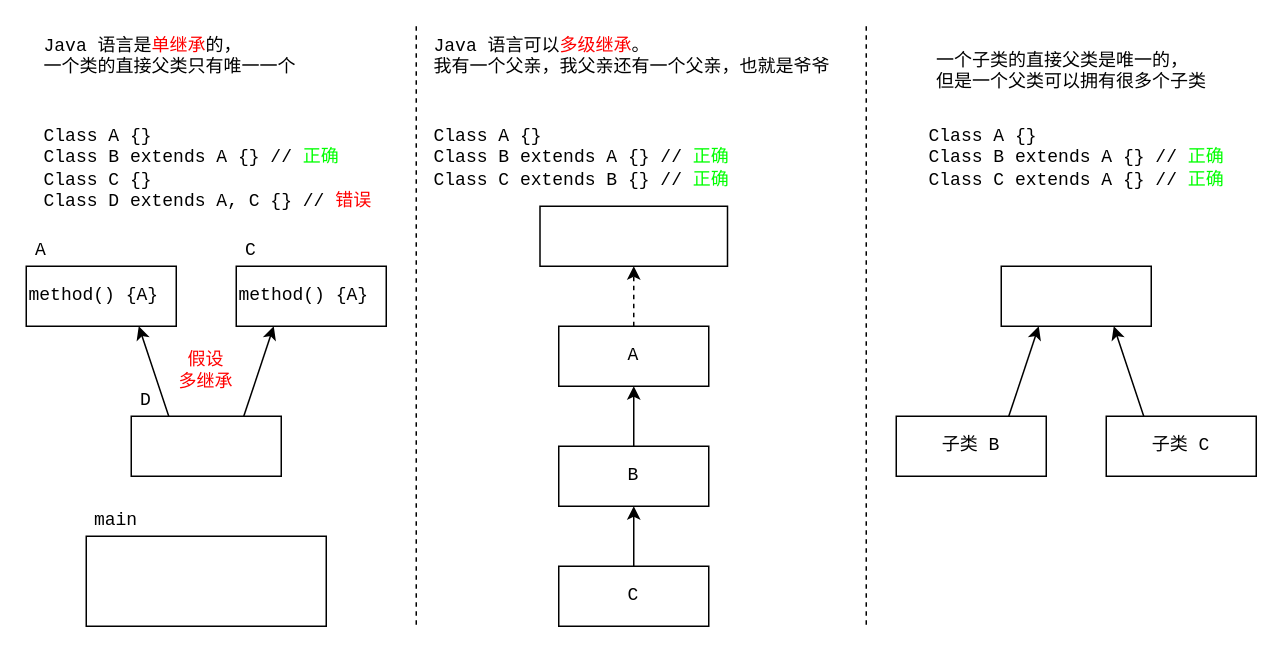
The diagram is 1283 pixels wide and 654 high, and some of its shapes have lost their labels. Here are the shapes that lost their labels. From the top down, the centre of each, then its label:
(x=633, y=235): java.lang.Object
(x=1075, y=295): 父类 A
(x=205, y=580): D d = new D(); // A or C d.method();
